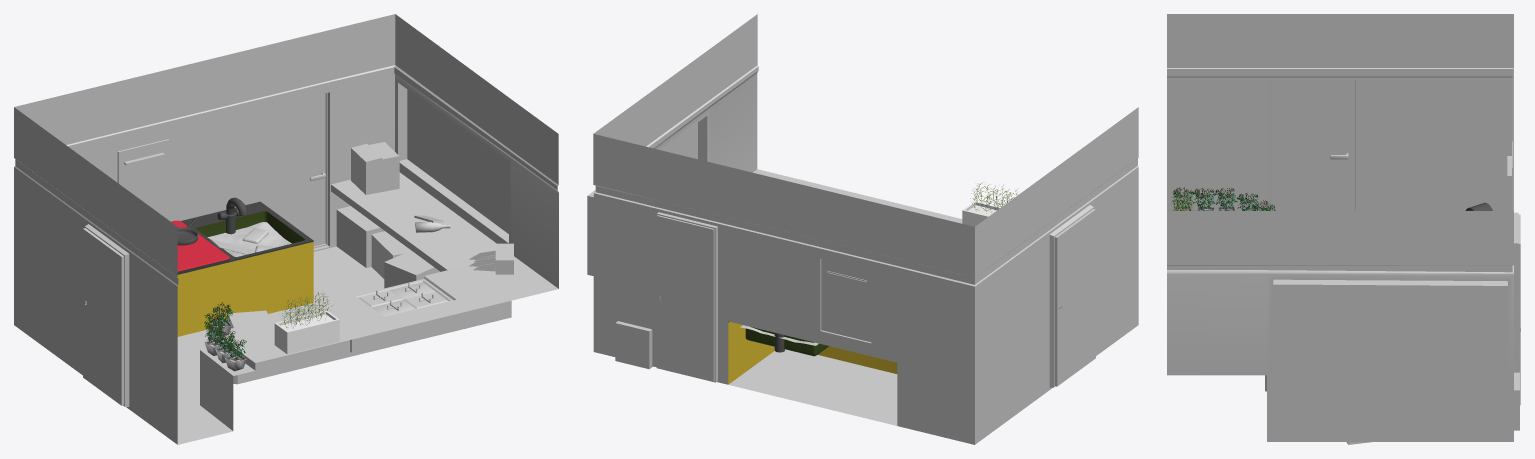
Rendered from Arena.fbx.
3 views of the same model, side by side, from view 1: azimuth 30°, elevation 25°; view 2: azimuth 150°, elevation 25°; view 3: azimuth 270°, elevation 25° (orthographic). The views are drawn at different scales.
Visible parts, largest first — view 1: Wand, Plane, Wand.003, Wand.001, Cube.002, Wasser, Wand.002, Hahn; view 2: Wand, Plane, Wand.003, Wand.001; view 3: Wand, Wand.003.
Part boxes in pixels (box(x1,y1,x2,y2)): Wand: box(14, 14, 558, 444); Plane: box(171, 201, 313, 336); Wand.003: box(336, 206, 465, 328); Wand.001: box(274, 292, 339, 354); Cube.002: box(351, 142, 399, 194); Wasser: box(207, 222, 291, 256); Wand.002: box(469, 243, 513, 274); Hahn: box(217, 197, 247, 234); Wand: box(587, 14, 1138, 444); Plane: box(728, 321, 897, 384); Wand.003: box(615, 321, 652, 369); Wand.001: box(962, 182, 1018, 226); Wand: box(1167, 14, 1520, 441); Wand.003: box(1346, 372, 1519, 444).
Size of the model in its own units: 9264 by 4975 by 6737.
